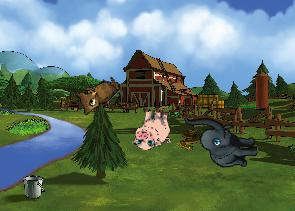elephant: (184, 109, 259, 172)
owl: (70, 66, 122, 119)
pig: (131, 106, 173, 151)
